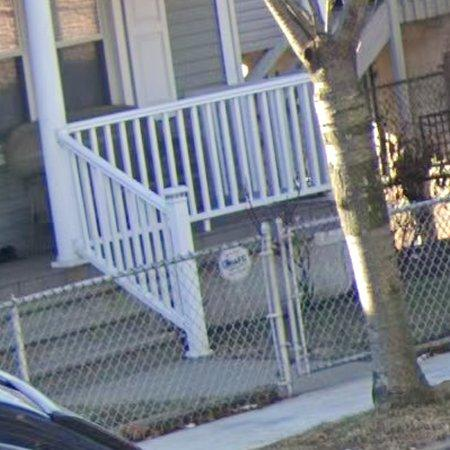stairs: (0, 256, 184, 405)
